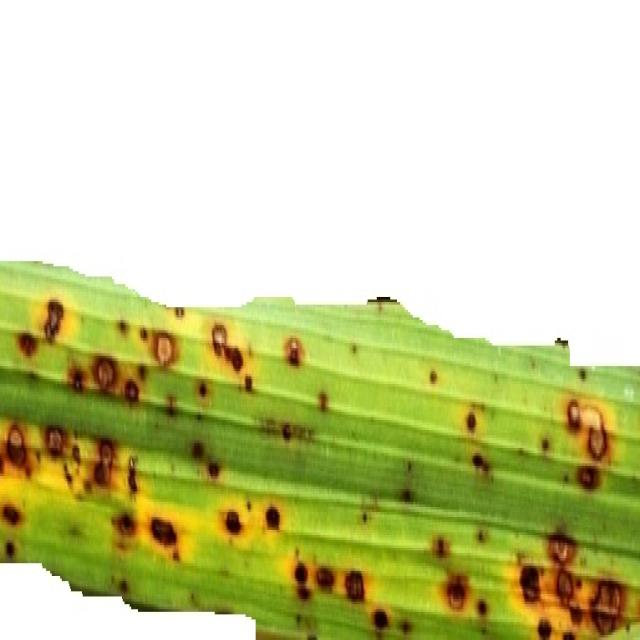Unhealthy: (39, 418, 202, 567), (501, 513, 640, 640), (275, 545, 394, 640), (556, 387, 622, 496), (426, 530, 491, 640), (63, 345, 151, 414), (13, 291, 86, 368), (0, 412, 42, 534), (205, 315, 257, 398), (212, 495, 285, 551), (459, 399, 494, 484), (254, 413, 318, 451), (137, 321, 182, 375), (188, 435, 226, 488), (279, 331, 309, 374), (398, 449, 416, 516), (366, 293, 402, 318), (293, 608, 320, 640), (112, 311, 133, 347), (194, 373, 211, 412), (2, 534, 20, 564), (165, 392, 182, 423), (316, 387, 331, 418), (397, 616, 416, 638), (473, 525, 492, 547), (424, 365, 441, 389), (553, 334, 571, 355), (537, 434, 553, 457), (171, 305, 188, 323), (576, 365, 589, 384), (348, 338, 360, 358), (361, 507, 370, 530), (561, 470, 570, 487)
